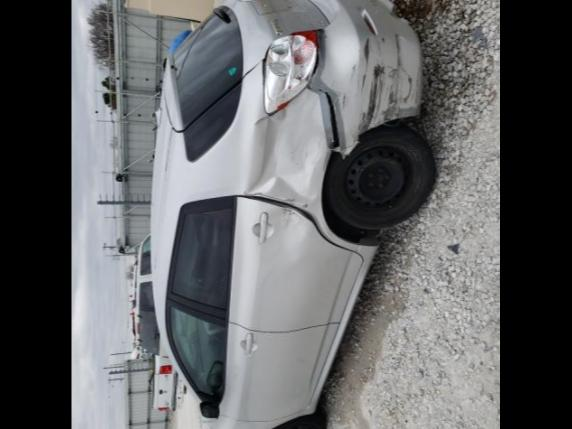Broken part: (236, 192, 364, 260), (306, 30, 346, 156), (264, 28, 316, 113), (344, 112, 420, 158)
Dent: (246, 86, 334, 204), (240, 198, 312, 268)
Scratch: (342, 34, 424, 140), (244, 190, 294, 200), (282, 208, 296, 214), (302, 204, 308, 206)
